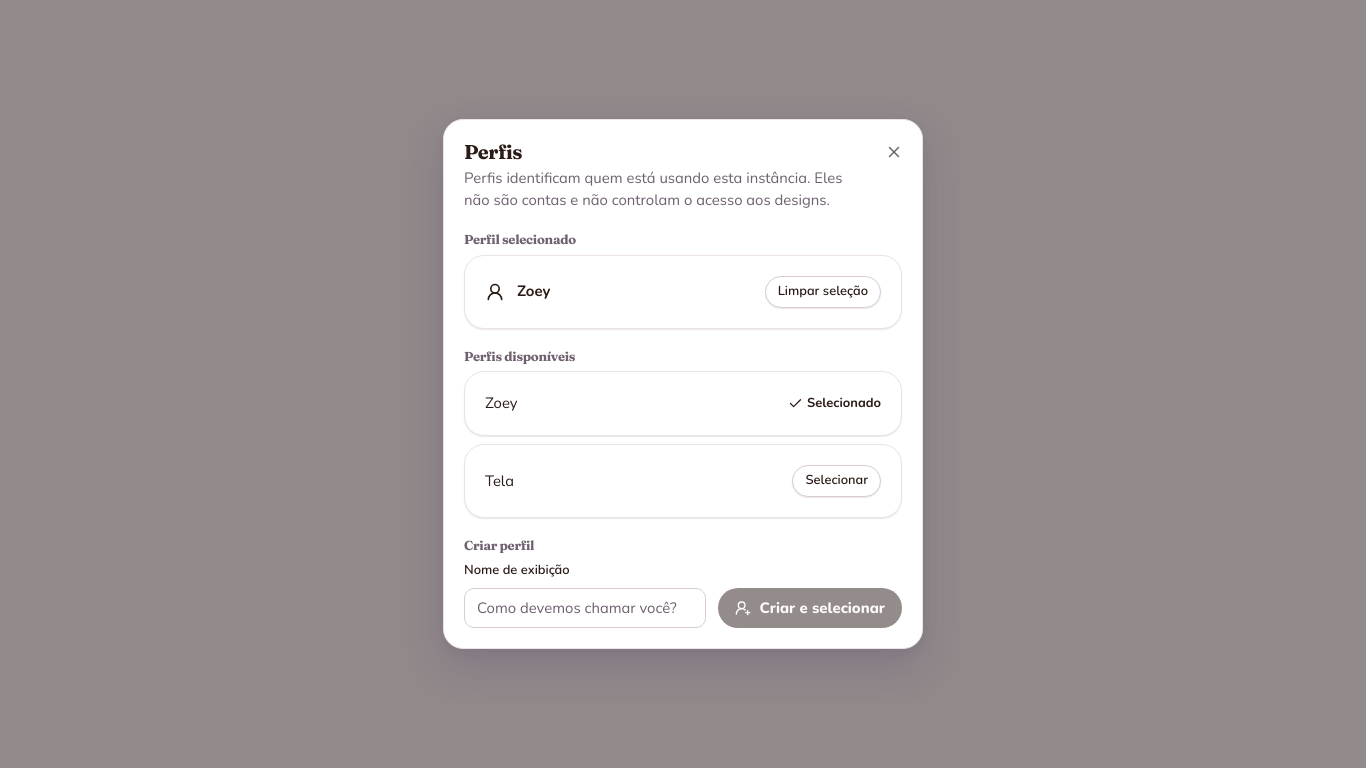
Test case: ProfileDialog › lists, selects, creates and selects, then clears the current profile
Check: the list item "Zoey Selecionado" is shown, box [464,372,902,436]
Click the button "Selecionar" at (837, 481), box [792,465,881,497]
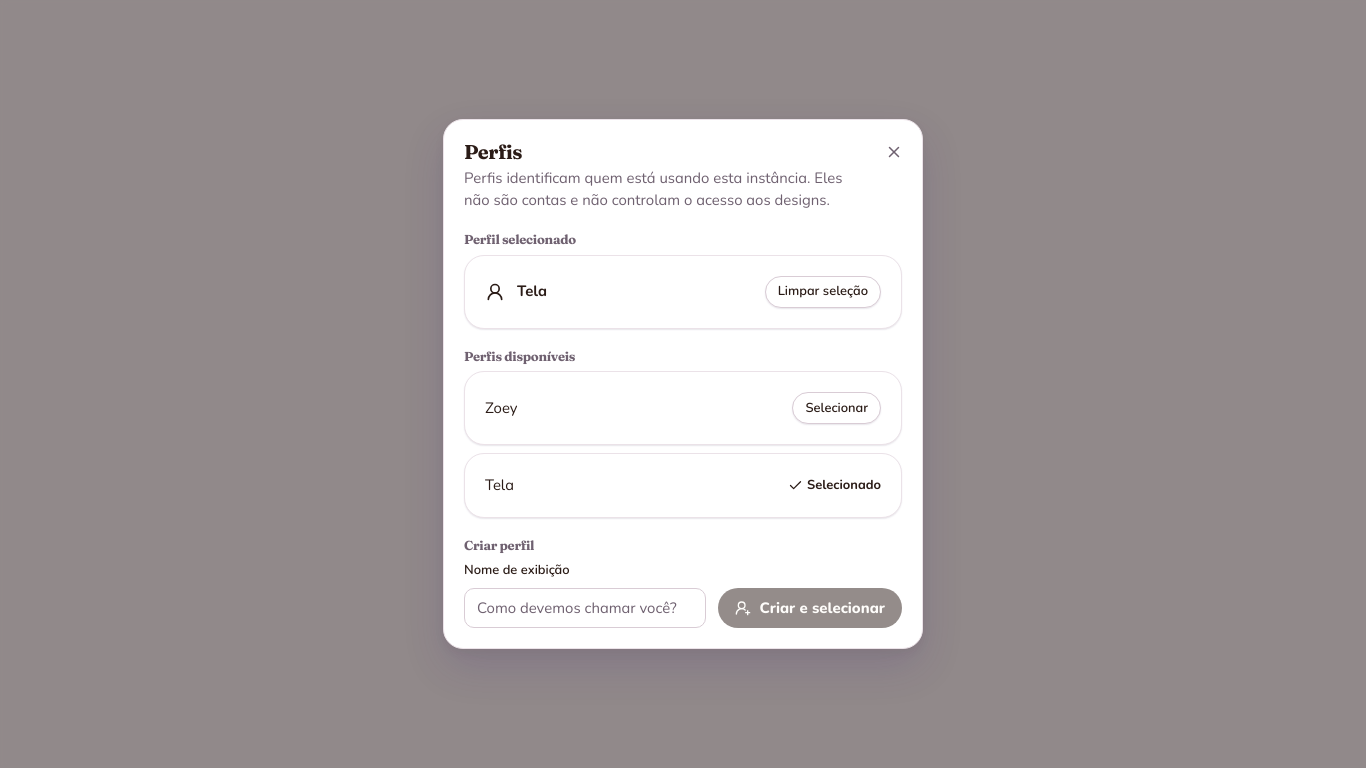
Check: the element "Perfil selecionado" shows "Tela", box [517,281,547,301]
Check: the list item "Tela Selecionado" is shown, box [464,454,902,518]
Type "Nova pessoa" into the field labelled "Nome de exibição" at (585, 608), box [477,589,694,627]
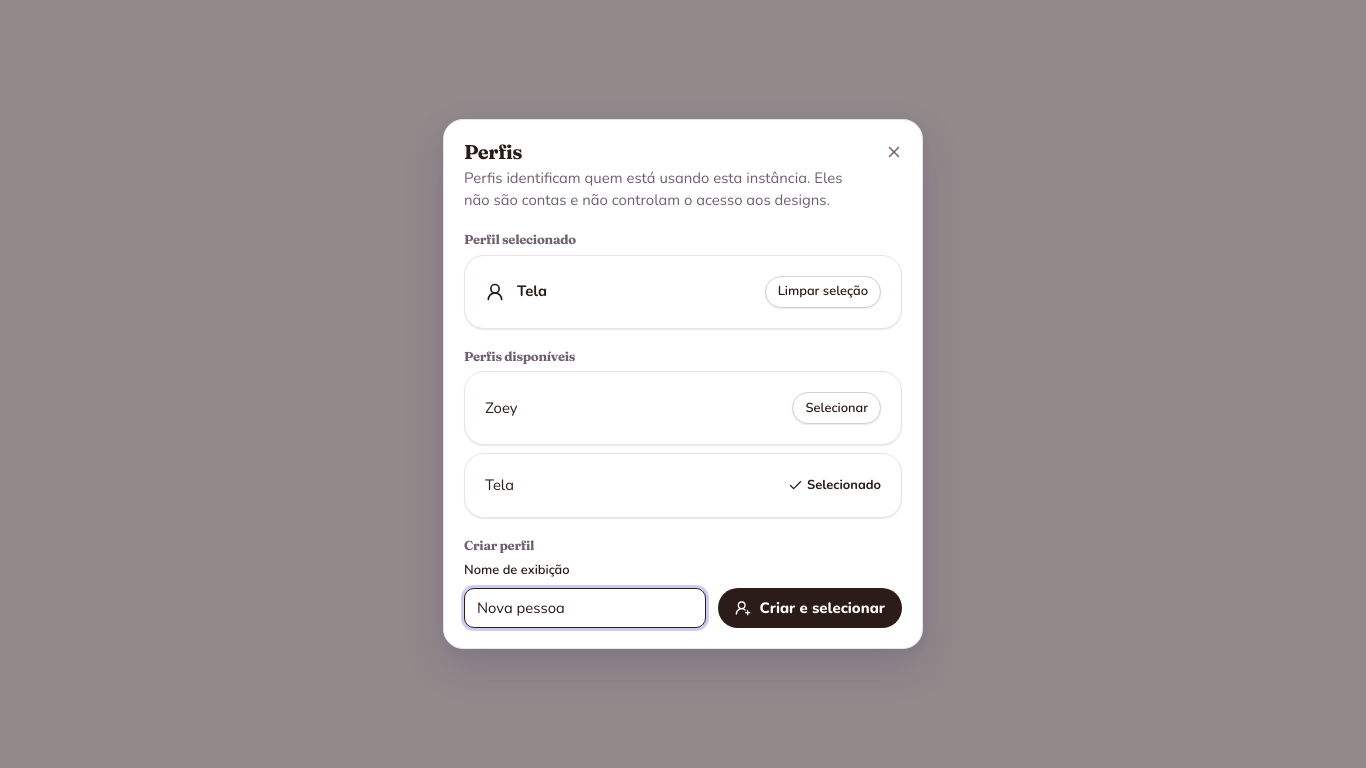
Click the button "Criar e selecionar" at (810, 608), box [718,588,902,628]
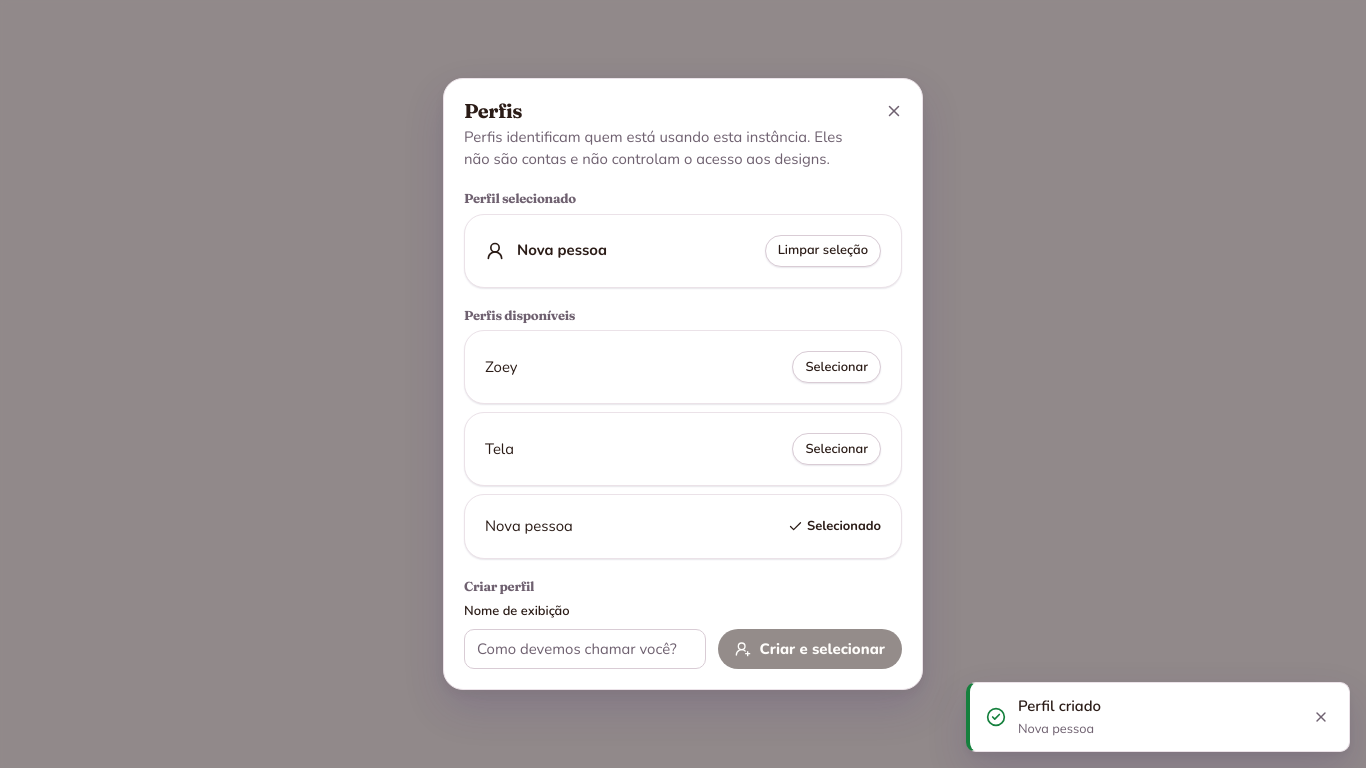
Check: the element "Perfil selecionado" shows "Nova pessoa", box [517,240,607,260]
Check: the list item "Nova pessoa Selecionado" is shown, box [464,494,902,559]
Click the button "Limpar seleção" at (823, 250), box [765,234,881,266]
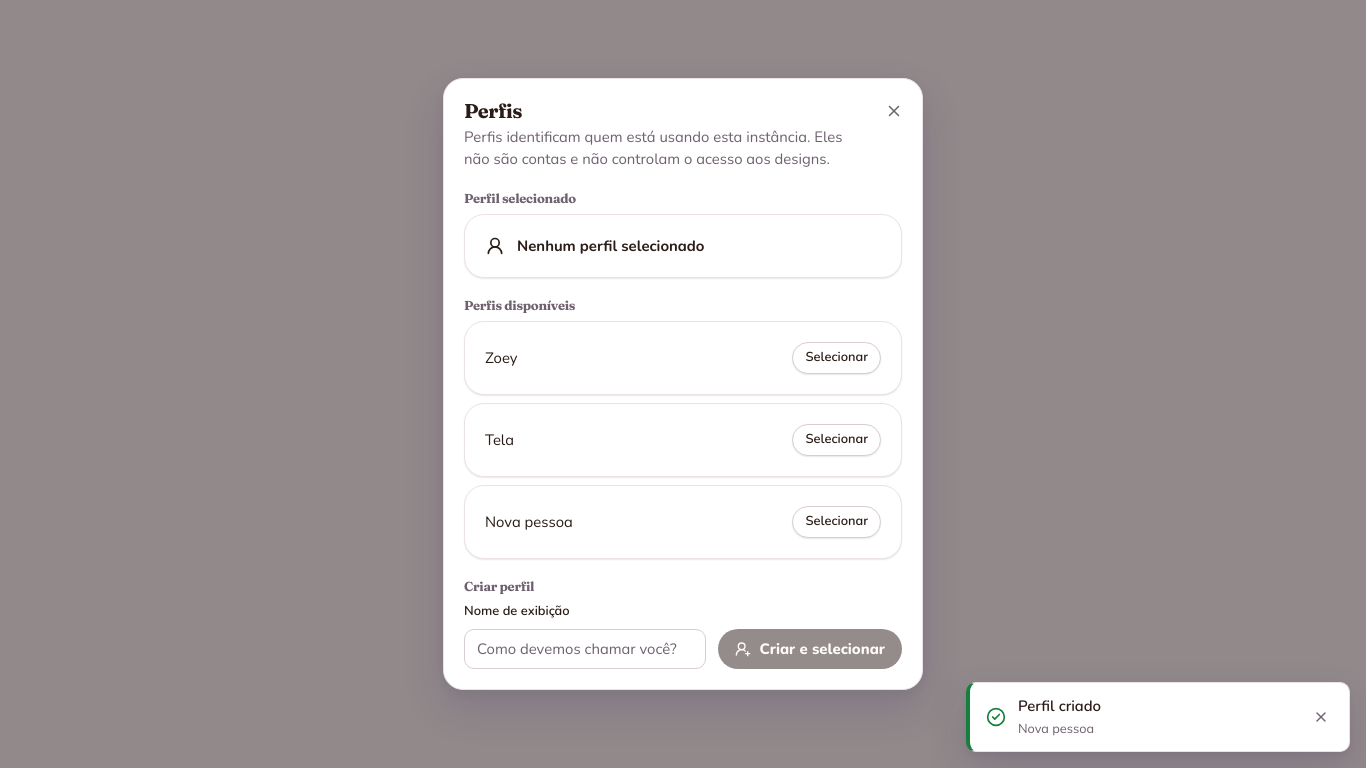
Check: the text "Nenhum perfil selecionado" is shown, box [517,236,704,256]
